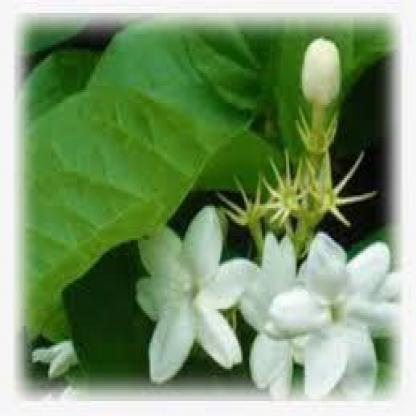Kupu-Kupu: (55, 136, 156, 276), (286, 159, 367, 266), (142, 86, 293, 143), (162, 268, 230, 353)
